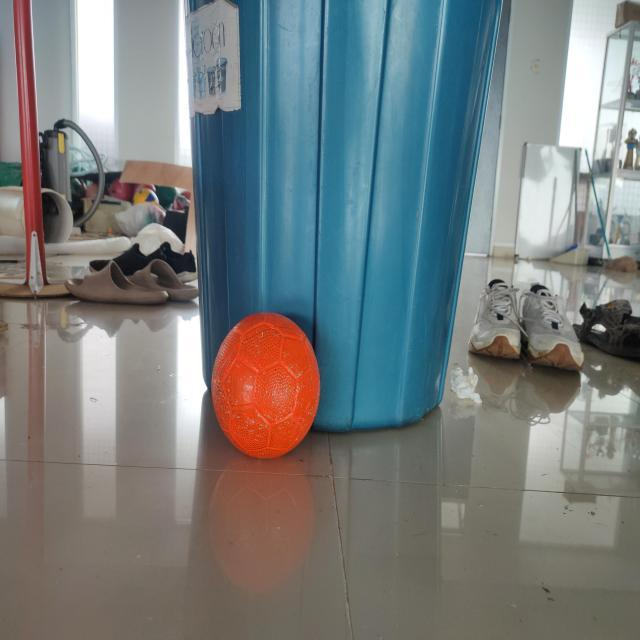bola: (204, 301, 329, 470)
